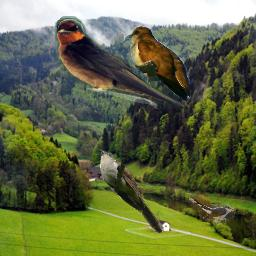Cuckoo: (99, 149, 164, 233), (125, 26, 190, 103), (188, 195, 236, 225)
Swallow: (55, 16, 185, 109)
